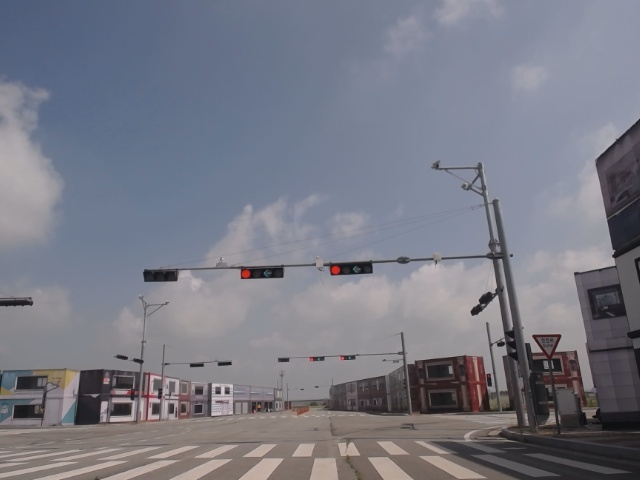left_green_4: (330, 263, 373, 276), (240, 267, 285, 279)
